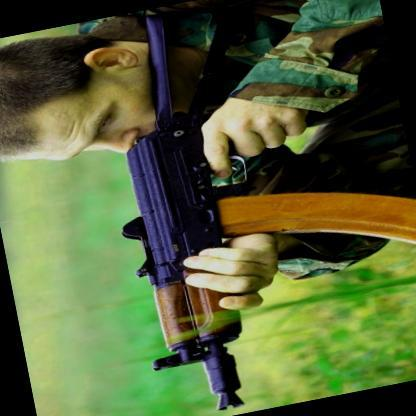rifle: (72, 0, 380, 416)
